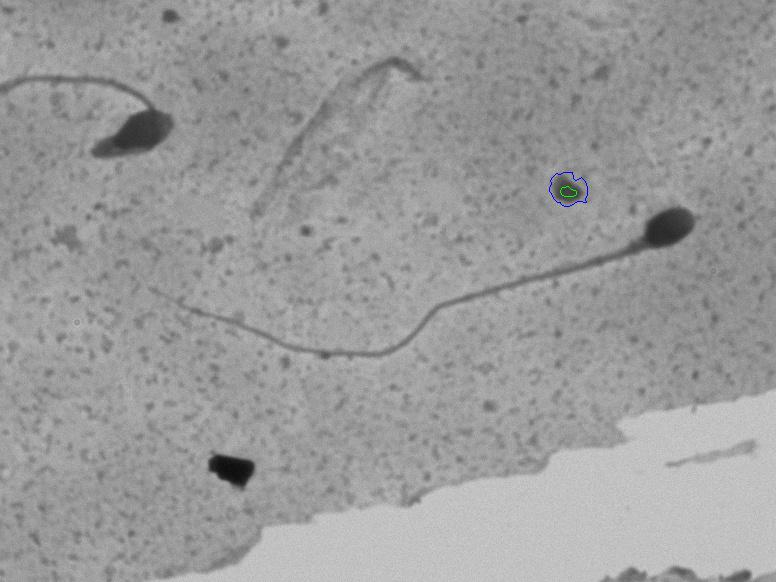Abnormal: (6, 50, 184, 197)
Normal: (117, 190, 720, 399)
